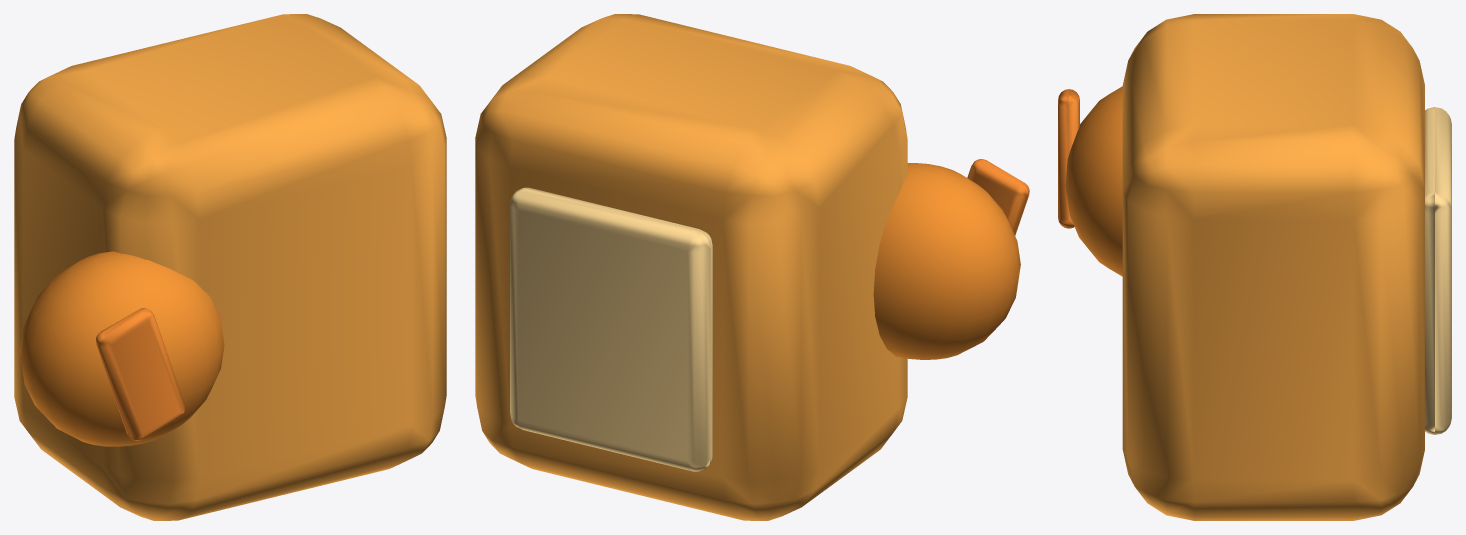
File: chr_player_capsule01_cat_body_top3d_v002.glb
3 views of the same model, side by side, from view 1: azimuth 30°, elevation 25°; view 2: azimuth 150°, elevation 25°; view 3: azimuth 270°, elevation 25° (orthographic).
Parts seen in each view (by area): view 1: BodyShell, TailStub, TailMarking; view 2: BodyShell, BellyPatch, TailStub, TailMarking; view 3: BodyShell, BellyPatch, TailStub, TailMarking.
Boxes of the visible parts, x1,y1,x2,y2 form: BodyShell: (14, 14, 446, 520); TailStub: (19, 251, 224, 446); TailMarking: (96, 308, 185, 440); BodyShell: (475, 14, 907, 520); BellyPatch: (510, 187, 712, 471); TailStub: (873, 163, 1020, 359); TailMarking: (967, 159, 1029, 235); BodyShell: (1122, 14, 1424, 520); BellyPatch: (1425, 107, 1451, 434); TailStub: (1065, 86, 1122, 276); TailMarking: (1058, 89, 1079, 228).
Size of the model in its own units: 1.25 by 1.08 by 0.99.
